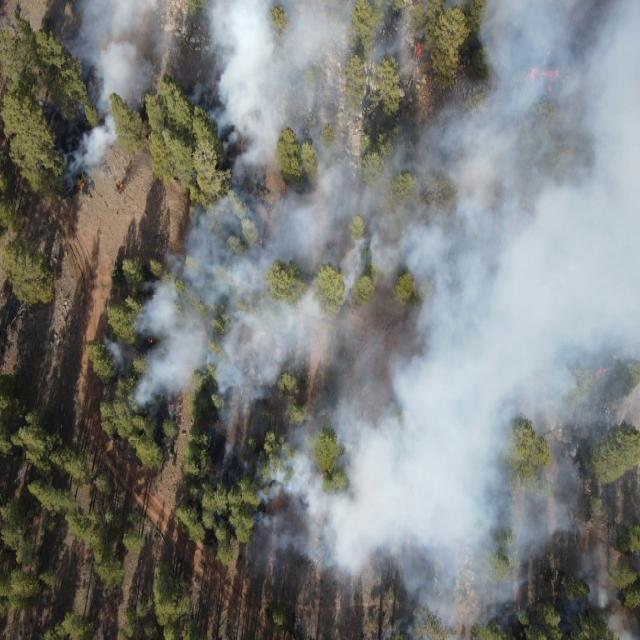fire: (530, 68, 562, 90), (541, 41, 557, 65), (594, 366, 612, 380), (415, 39, 426, 60), (76, 180, 87, 192), (168, 401, 176, 414), (258, 236, 266, 248), (318, 471, 327, 480), (118, 182, 126, 192), (148, 337, 156, 344)
smoke: (248, 197, 580, 585), (190, 1, 408, 198), (50, 0, 188, 199), (408, 106, 639, 196), (180, 199, 248, 482), (475, 0, 640, 106), (579, 199, 640, 445), (368, 585, 532, 640), (130, 254, 179, 421), (580, 556, 640, 640), (100, 335, 130, 377), (444, 0, 476, 11)
